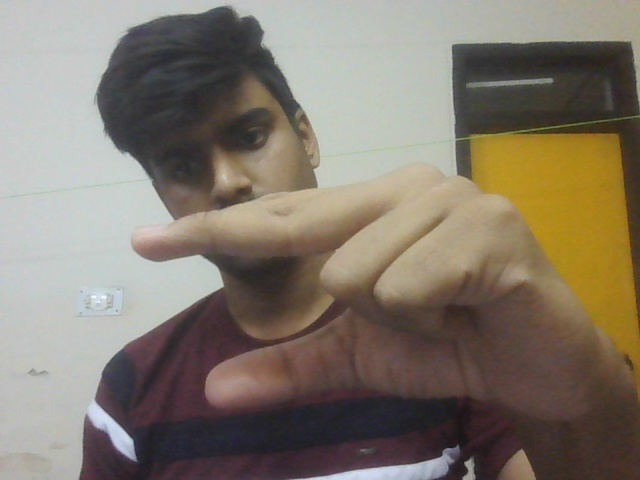no: (118, 158, 634, 431)
